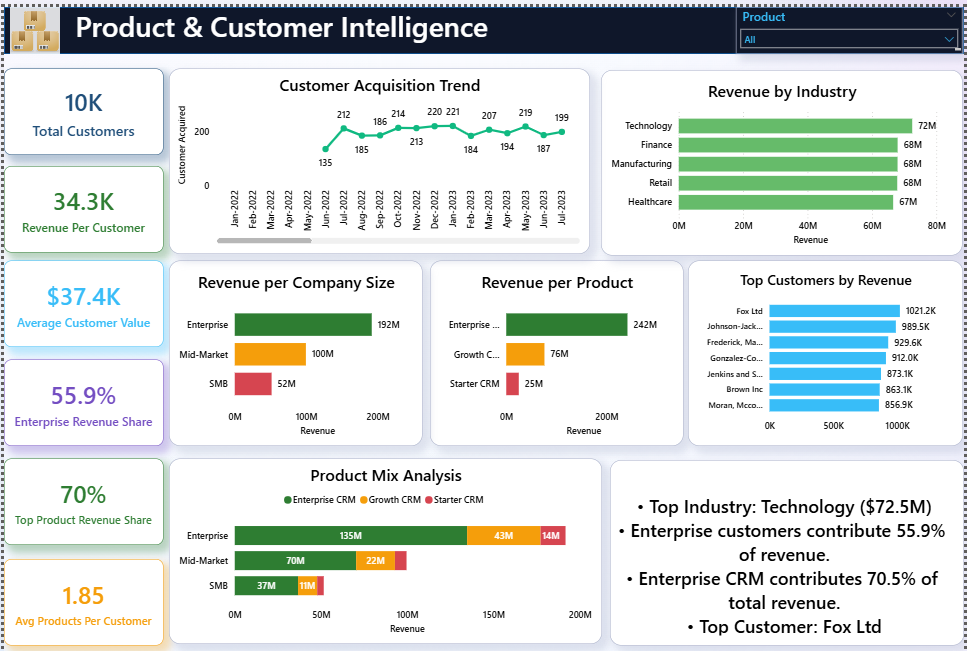

What the dashboard file says about the page in this screenshot:
{"tool":"powerbi","page":{"name":"Page 4","canvas":[1280,860],"ordinal":3},"visuals":[{"type":"shape","box":[0,0,1280,62.8],"z":0},{"type":"textbox","title":"Product & Customer Intelligence","box":[89.1,0,1190.9,62.8],"z":1000},{"type":"actionButton","box":[8.1,0,66.8,62.8],"z":2000},{"type":"card","fields":{"Values":["Measures table.Total Customers"]},"box":[0,81,212.7,115.4],"z":3000},{"type":"card","fields":{"Values":["Measures table.Revenue Per Customer"]},"box":[0,212.7,212.7,115.4],"z":4000},{"type":"card","fields":{"Values":["Measures table.Average Customer Value"]},"box":[0,338.2,212.7,115.4],"z":5000},{"type":"card","fields":{"Values":["Measures table.Enterprise Revenue Share"]},"box":[0,469.9,212.7,115.4],"z":6000},{"type":"card","fields":{"Values":["Measures table.Top Product Revenue Share"]},"box":[0,601.5,212.7,115.4],"z":7000},{"type":"card","fields":{"Values":["Measures table.Average Products Per Customer"]},"box":[0,735.2,212.7,115.4],"z":8000},{"type":"clusteredBarChart","title":"Revenue per Product","fields":{"Category":["dim_product.product_name"],"Y":["Measures table.Total Revenue"]},"box":[567.1,338.2,338.2,247.1],"z":9000},{"type":"clusteredBarChart","title":"Revenue by Industry","fields":{"Y":["Measures table.Total Revenue"],"Category":["dim_customer.industry"]},"box":[795.9,83,482,247.1],"z":10000},{"type":"clusteredBarChart","title":"Revenue per Company Size","fields":{"Category":["dim_customer.company_size"],"Y":["Measures table.Total Revenue"]},"box":[220.8,338.2,338.2,247.1],"z":11000},{"type":"lineChart","title":"Customer Acquisition Trend","fields":{"Y":["Measures table.Customers Acquired"],"Category":["Dim_Date.Year Month"]},"box":[220.8,81,561,247.1],"z":12000},{"type":"clusteredBarChart","title":"Top Customers by Revenue","fields":{"Category":["dim_customer.customer_name"],"Y":["Measures table.Total Revenue"]},"box":[911.4,338.2,366.6,247.1],"z":14000},{"type":"barChart","title":"Product Mix Analysis","fields":{"Category":["dim_customer.company_size"],"Y":["Measures table.Total Revenue"],"Series":["dim_product.product_name"]},"box":[220.8,601.5,577.2,247.1],"z":14001},{"type":"card","fields":{"Values":["Measures table.Customer Insights"]},"box":[808.1,603.5,471.9,247.1],"z":14002},{"type":"slicer","fields":{"Values":["dim_product.product_name"]},"box":[976.2,0,301.8,62.8],"z":14003}]}

Visuals, with their boxes in screenshot pixels (x1, y1, x2, y2), scaled from the page's 1280x860 canvas onto the 967x651 screenshot:
shape: 0:0:966:48
"Product & Customer Intelligence" textbox: 67:0:966:48
actionButton: 6:0:57:48
card - Measures table.Total Customers: 0:61:161:149
card - Measures table.Revenue Per Customer: 0:161:161:248
card - Measures table.Average Customer Value: 0:256:161:343
card - Measures table.Enterprise Revenue Share: 0:356:161:443
card - Measures table.Top Product Revenue Share: 0:455:161:543
card - Measures table.Average Products Per Customer: 0:557:161:644
"Revenue per Product" clusteredBarChart: 428:256:684:443
"Revenue by Industry" clusteredBarChart: 601:63:965:250
"Revenue per Company Size" clusteredBarChart: 167:256:422:443
"Customer Acquisition Trend" lineChart: 167:61:591:248
"Top Customers by Revenue" clusteredBarChart: 689:256:965:443
"Product Mix Analysis" barChart: 167:455:603:642
card - Measures table.Customer Insights: 610:457:966:644
slicer - dim_product.product_name: 737:0:965:48
